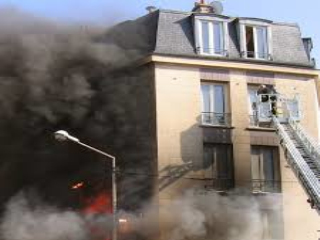fire: (70, 179, 110, 214)
smoke: (2, 17, 144, 184), (111, 183, 275, 240), (3, 190, 94, 236)
